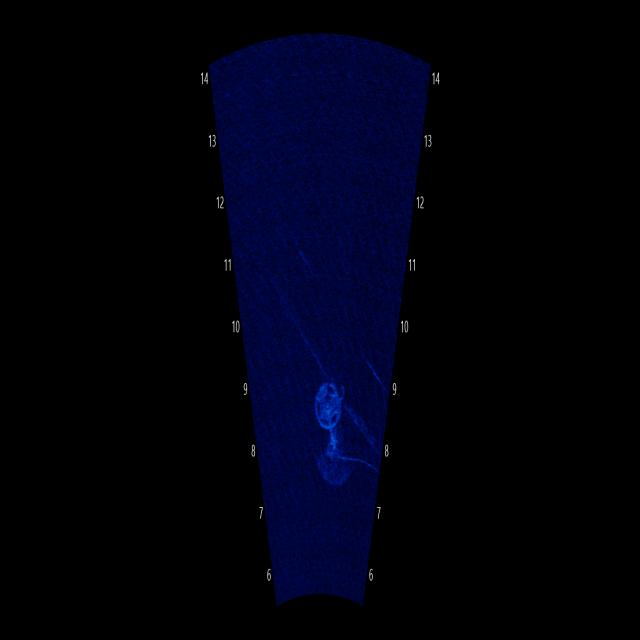circle: (305, 356, 349, 447)
